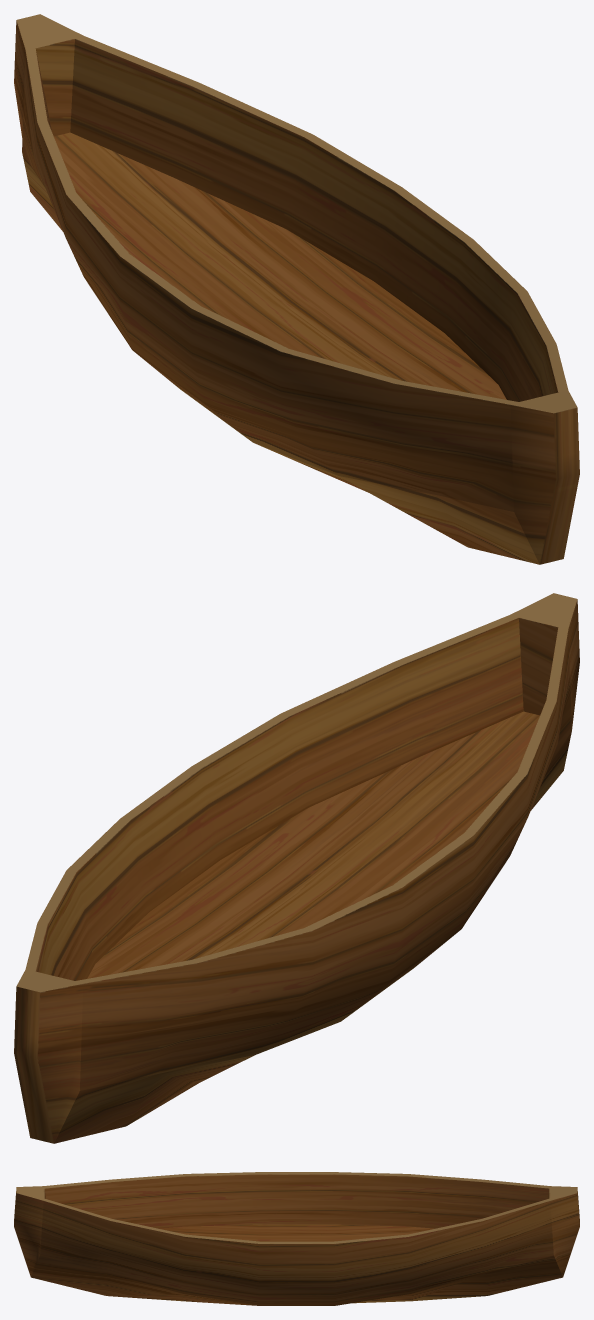
The model's file is barque.fbx.
3 views of the same model, one above another, from view 1: azimuth 30°, elevation 25°; view 2: azimuth 150°, elevation 25°; view 3: azimuth 270°, elevation 25° (orthographic). The views are drawn at different scales.
Visible parts, largest first — view 1: barque; view 2: barque; view 3: barque.
Boxes of the visible parts, <box> form: barque: <box>14,14,579,564</box>; barque: <box>14,593,579,1143</box>; barque: <box>14,1172,579,1305</box>.
Size of the model in its own units: 84.7 by 60.82 by 282.
Materials: 1 (1 with a texture image).
